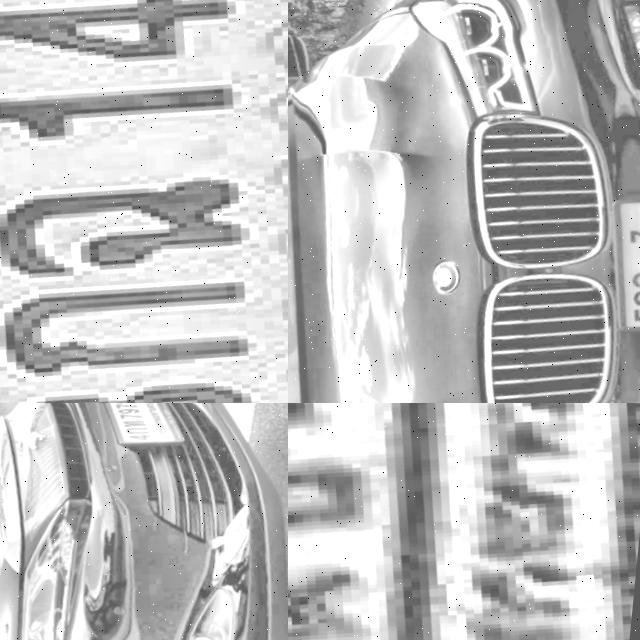license-plate: (0, 0, 288, 403), (288, 403, 640, 640), (601, 172, 640, 328), (95, 403, 190, 449)
